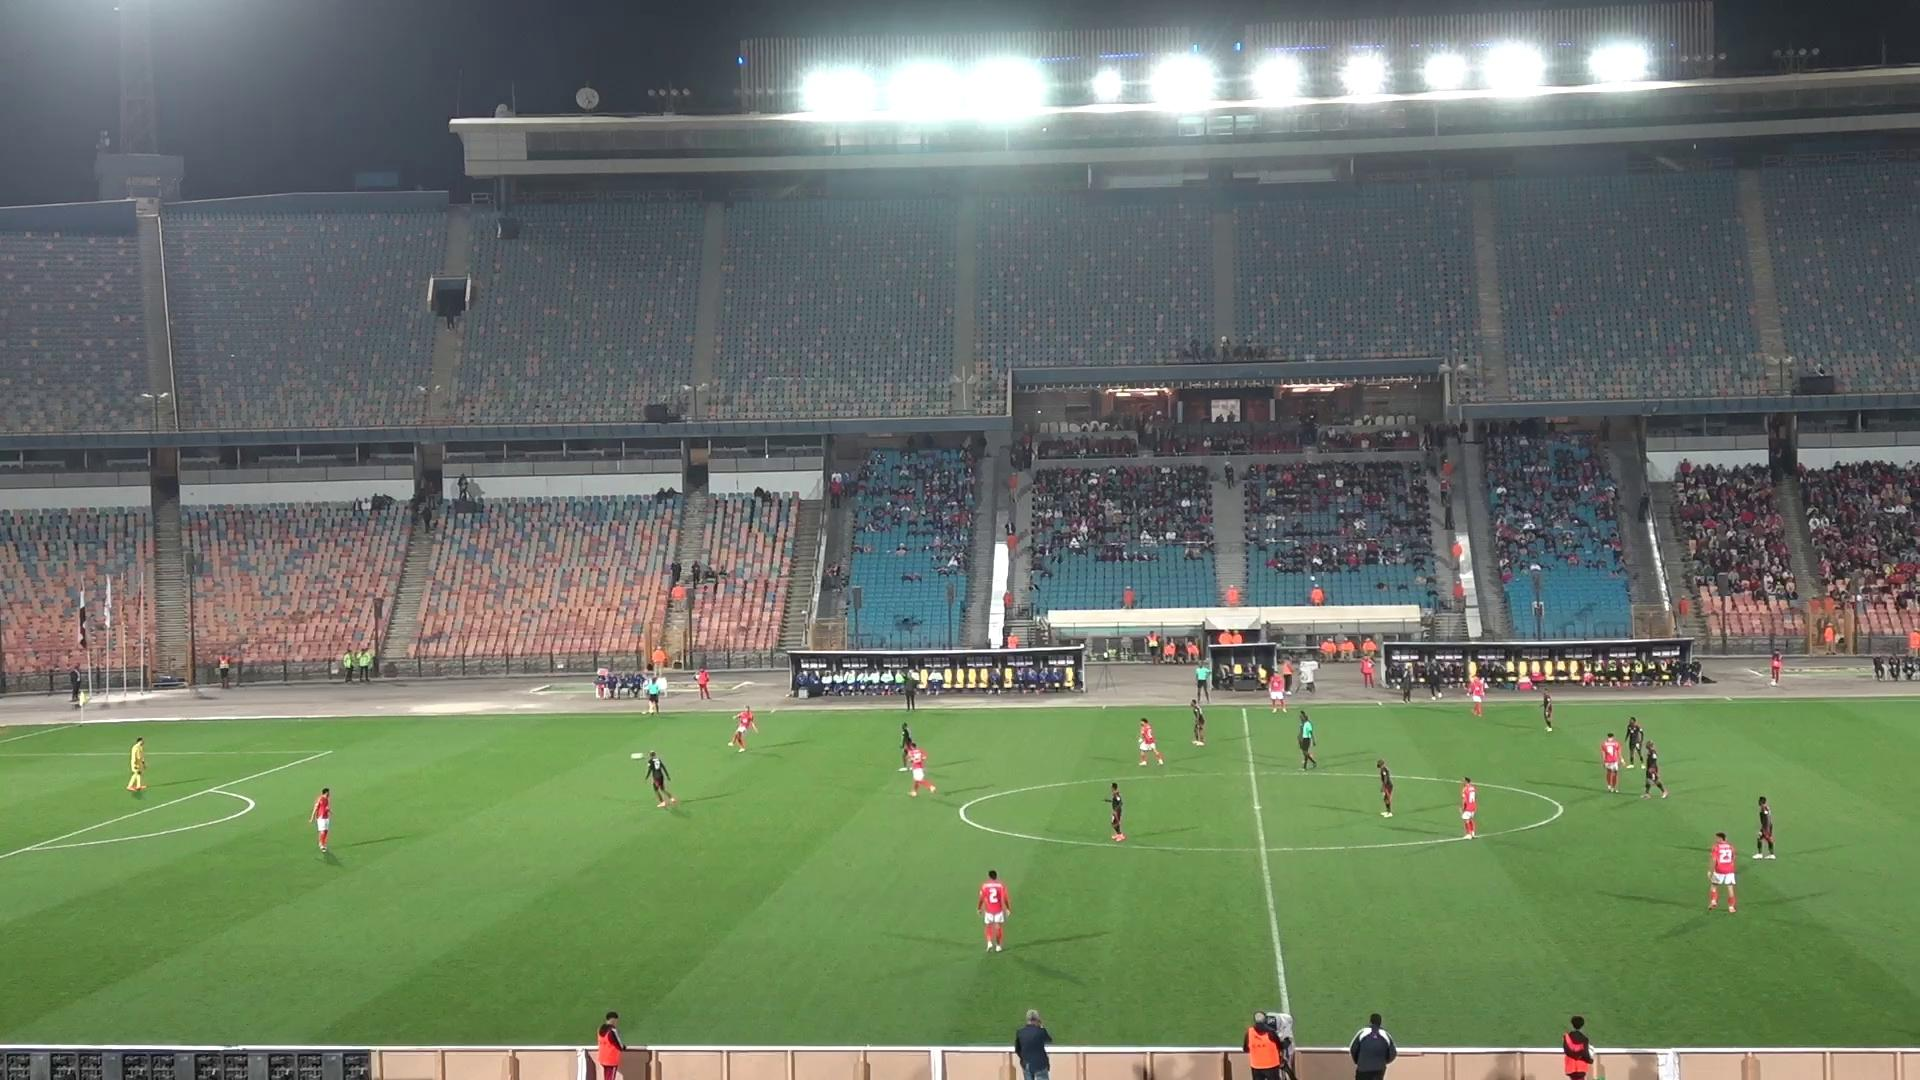Ball: (632, 752, 647, 760)
GK1: (124, 736, 150, 794)
Refree: (1294, 709, 1316, 767), (642, 671, 666, 713), (1193, 657, 1212, 702)
Team1: (976, 870, 1011, 951), (1705, 831, 1737, 913), (1600, 732, 1633, 793), (899, 741, 936, 794), (309, 786, 332, 855), (728, 705, 758, 752), (1135, 717, 1164, 764), (1458, 777, 1477, 837), (1265, 673, 1294, 711), (1464, 673, 1487, 716)
Team2: (632, 752, 678, 806), (1629, 741, 1668, 798), (1102, 781, 1127, 843), (1753, 796, 1778, 858), (1621, 716, 1646, 767), (1375, 760, 1393, 818), (897, 721, 919, 758), (1189, 698, 1207, 745), (1540, 694, 1553, 732)
